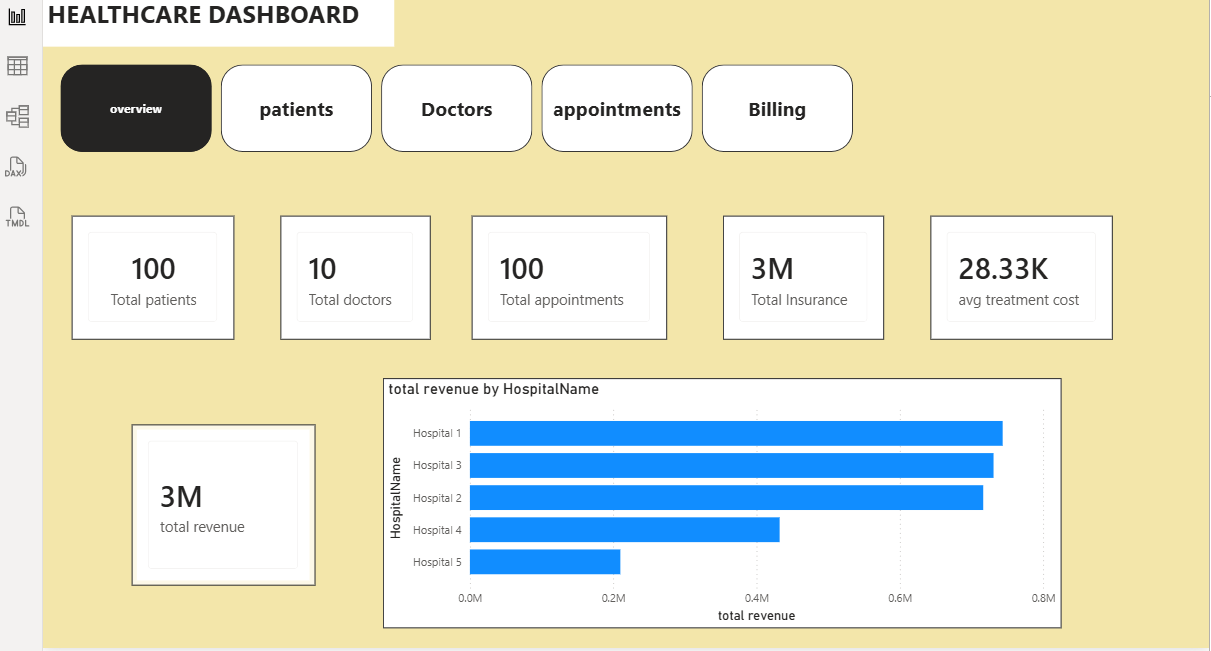

What the dashboard file says about the page in this screenshot:
{"tool":"powerbi","page":{"name":"overview","canvas":[1280,720],"ordinal":0},"visuals":[{"type":"textbox","box":[0,0,385.6,60.4],"z":0},{"type":"cardVisual","fields":{"Data":["Patients.Total patients"]},"box":[31.6,245.6,178.4,135.8],"z":1000},{"type":"cardVisual","fields":{"Data":["Patients.Total doctors"]},"box":[260.7,245.6,164.7,135.8],"z":2000},{"type":"cardVisual","fields":{"Data":["Patients.Total appointments"]},"box":[470.7,245.6,214.1,135.8],"z":3000},{"type":"cardVisual","fields":{"Data":["Patients.total revenue"]},"box":[97.4,474.8,201.7,177],"z":4000},{"type":"cardVisual","fields":{"Data":["Patients.Total Insurance"]},"box":[746.5,245.6,177,135.8],"z":5000},{"type":"cardVisual","fields":{"Data":["Patients.avg treatment cost"]},"box":[974.3,245.6,200.3,135.8],"z":6000},{"type":"pageNavigator","box":[19.2,79.6,871.4,96.1],"z":7000},{"type":"barChart","fields":{"Y":["Patients.total revenue"],"Category":["Hospitals.HospitalName"]},"box":[373.2,424,745.1,274.4],"z":8000}]}

Visuals, with their boxes on the page's 1280x720 design canvas (x1, y1, x2, y2). These are canvas units, not pixel positions in the 1211x651 screenshot, which may show the page scaled, cropped or inside an application window:
textbox: detection(0, 0, 386, 60)
cardVisual - Patients.Total patients: detection(32, 246, 210, 381)
cardVisual - Patients.Total doctors: detection(261, 246, 425, 381)
cardVisual - Patients.Total appointments: detection(471, 246, 685, 381)
cardVisual - Patients.total revenue: detection(97, 475, 299, 652)
cardVisual - Patients.Total Insurance: detection(746, 246, 924, 381)
cardVisual - Patients.avg treatment cost: detection(974, 246, 1175, 381)
pageNavigator: detection(19, 80, 891, 176)
barChart - Patients.total revenue x Hospitals.HospitalName: detection(373, 424, 1118, 698)
